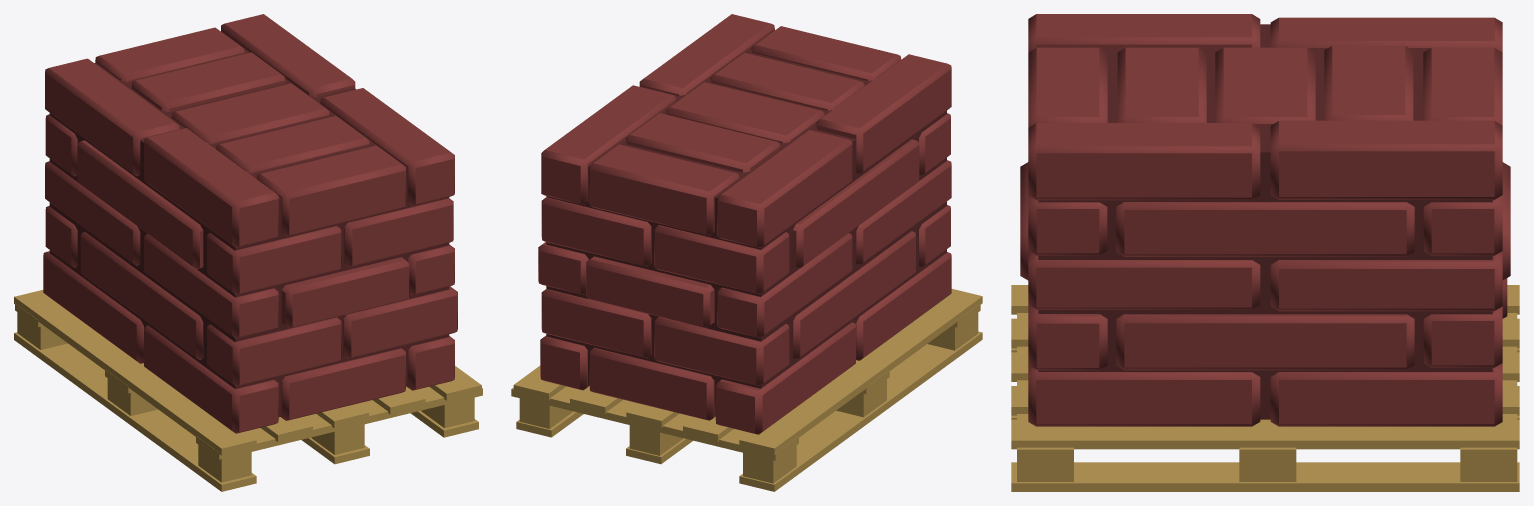
Rendered from prop-pallet-bricks-B4EejF8U.glb.
3 renders of one model, left to right at view 1: azimuth 30°, elevation 25°; view 2: azimuth 150°, elevation 25°; view 3: azimuth 270°, elevation 25°, orthographic. The views are drawn at different scales.
Parts seen in each view (by area): view 1: pallet-bricks (×2); view 2: pallet-bricks (×2); view 3: pallet-bricks (×2).
Part boxes in pixels (x1,y1,x2,y2): pallet-bricks (×2): (14,14,482,491); pallet-bricks (×2): (511,14,982,491); pallet-bricks (×2): (1011,14,1519,491).
Bounding box in the file's own units: 0.8925 × 0.8948 × 1.22.
